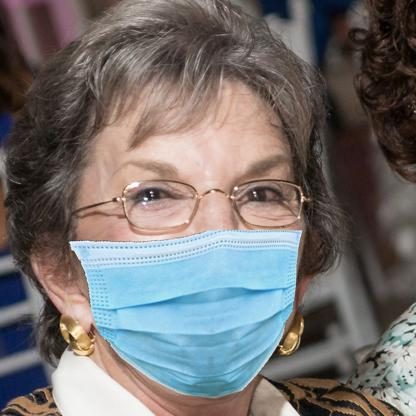mask: (69, 229, 304, 401)
